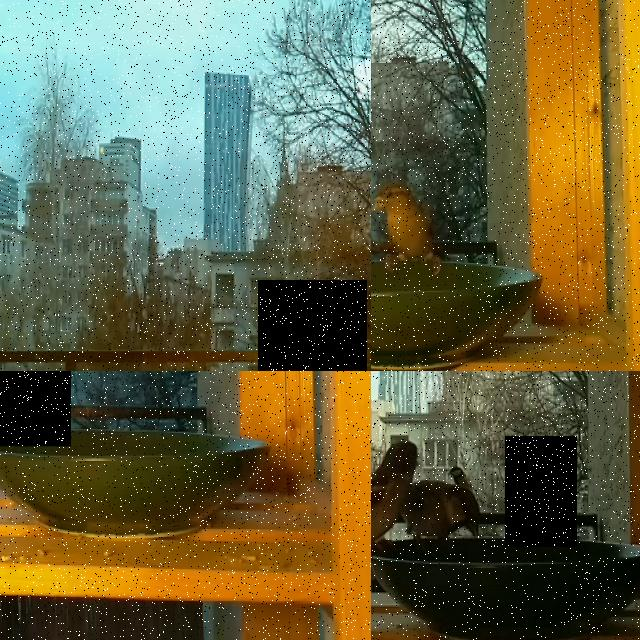Modraszka: (258, 280, 367, 371), (0, 371, 71, 446)
Wrobel: (505, 436, 577, 547), (382, 479, 482, 548), (371, 183, 445, 275), (371, 437, 416, 569)
